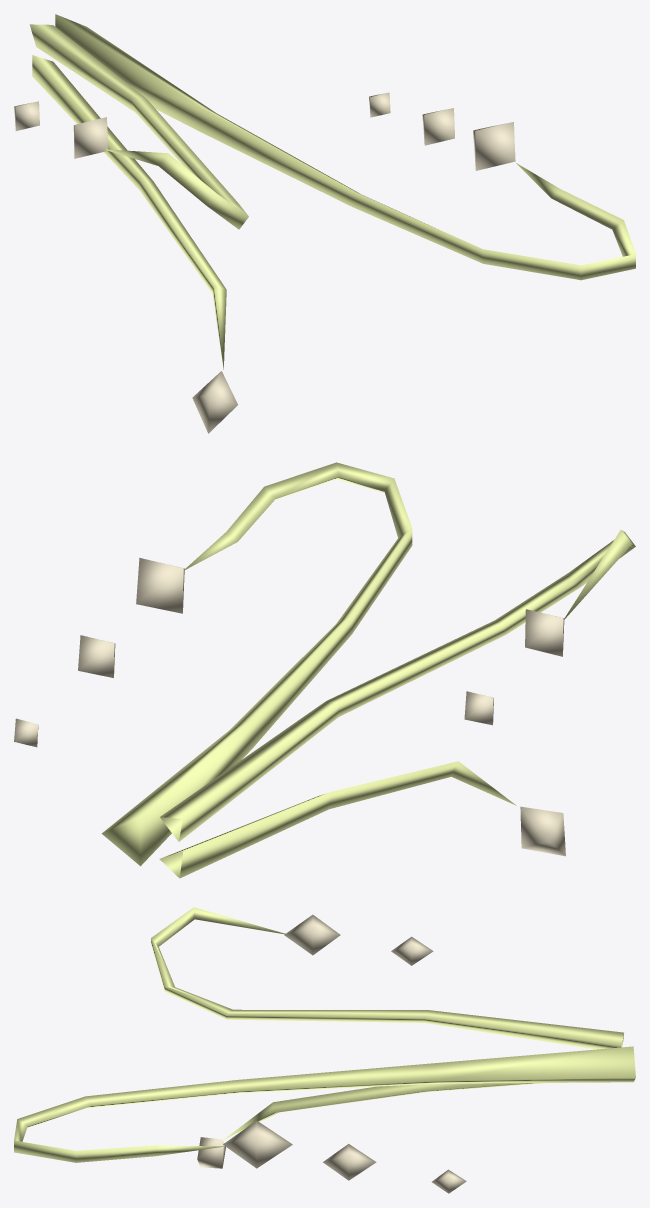
The picture shows the model from 3 angles, top to bottom: view 1: azimuth 30°, elevation 25°; view 2: azimuth 150°, elevation 25°; view 3: azimuth 270°, elevation 25°; orthographic projection. The views are drawn at different scales.
Parts seen in each view (by area): view 1: Object72; view 2: Object72; view 3: Object72.
Part boxes in pixels (x1,y1,x2,y2): Object72: [14, 14, 635, 433]; Object72: [14, 462, 635, 878]; Object72: [14, 907, 635, 1193].
Bounding box in the file's own units: 5693 × 3948 × 9179.
